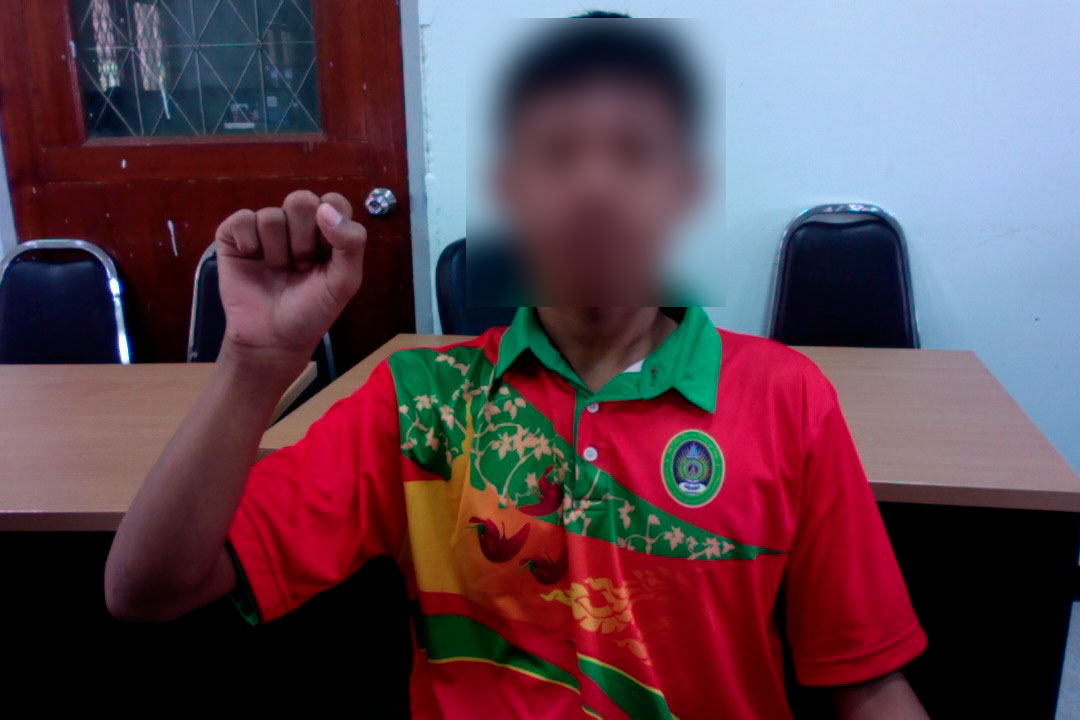sor: (206, 183, 374, 367)
